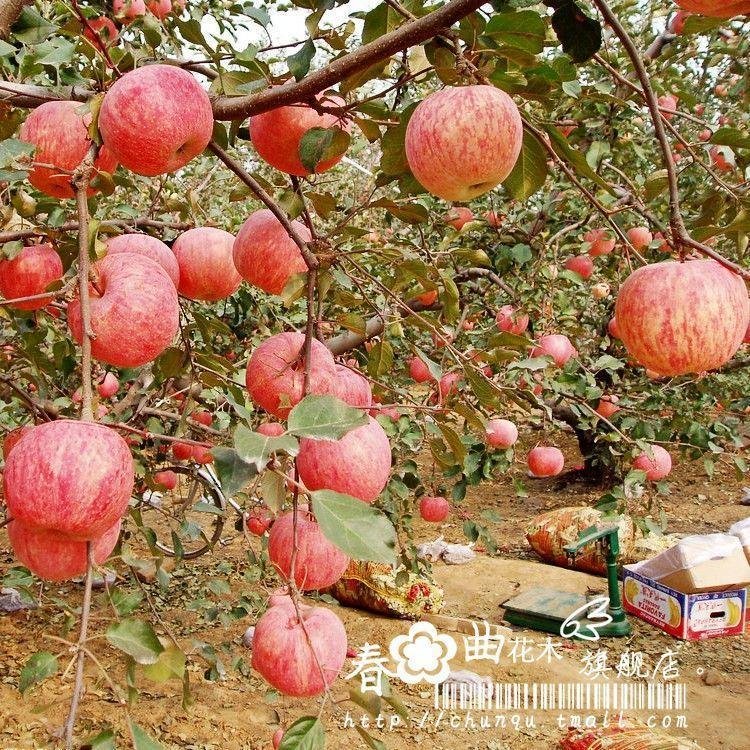apple: (607, 255, 747, 376), (2, 418, 134, 542), (92, 57, 214, 179), (404, 80, 523, 204), (70, 251, 177, 370), (16, 99, 115, 196), (251, 604, 348, 699), (290, 415, 390, 506), (246, 329, 338, 415), (265, 503, 353, 592), (231, 208, 310, 298), (173, 228, 241, 301), (2, 243, 62, 312)
